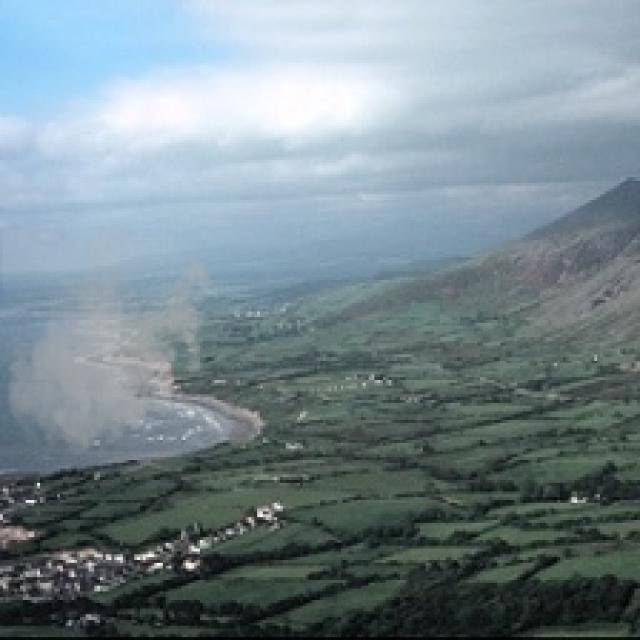smoke: (0, 228, 217, 463)
